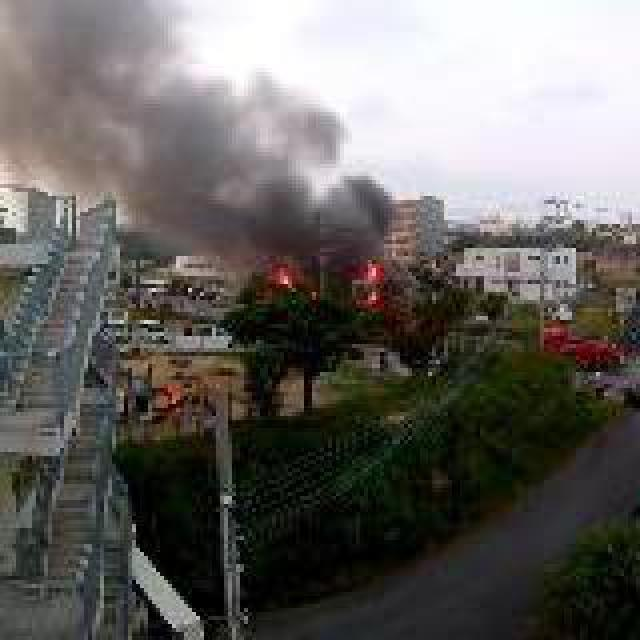smoke: (0, 0, 400, 248)
